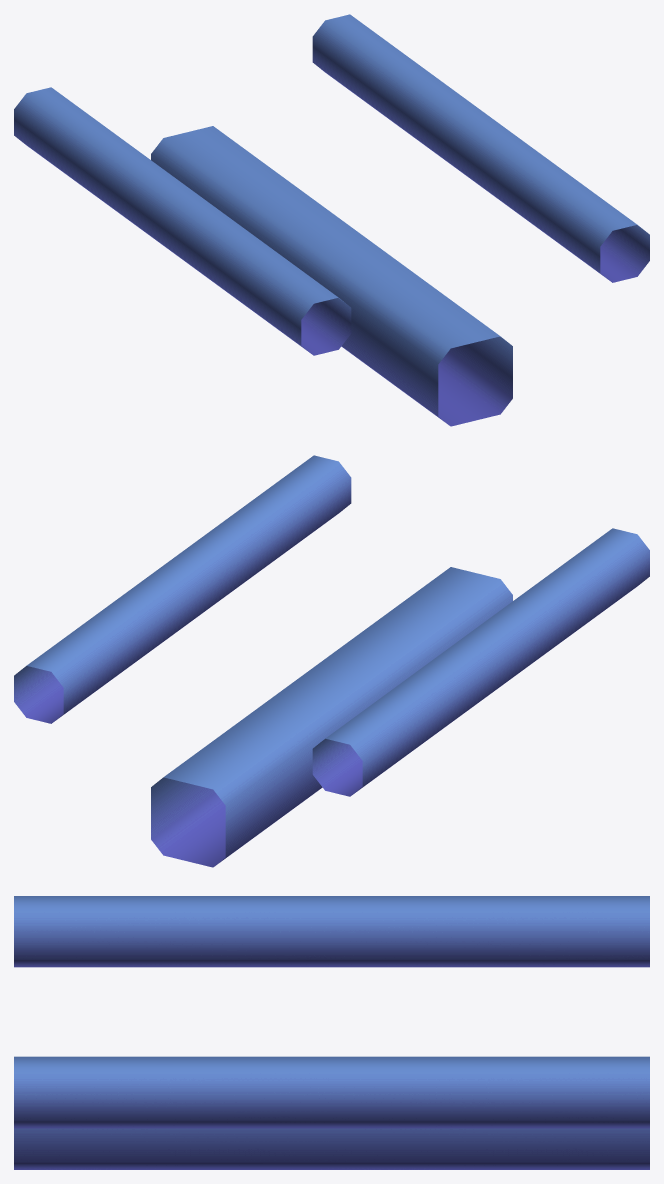
File: coaster-steel-track.glb
3 renders of one model, top to bottom at view 1: azimuth 30°, elevation 25°; view 2: azimuth 150°, elevation 25°; view 3: azimuth 270°, elevation 25°, orthographic. The views are drawn at different scales.
Parts seen in each view (by area): view 1: coaster-steel-track; view 2: coaster-steel-track; view 3: coaster-steel-track.
Boxes of the visible parts, x1,y1,x2,y2 form: coaster-steel-track: (14,14,649,426); coaster-steel-track: (14,455,649,867); coaster-steel-track: (14,896,649,1169).
Bounding box in the file's own units: 0.7 × 0.3 × 1.
1 material, 1 textured.
